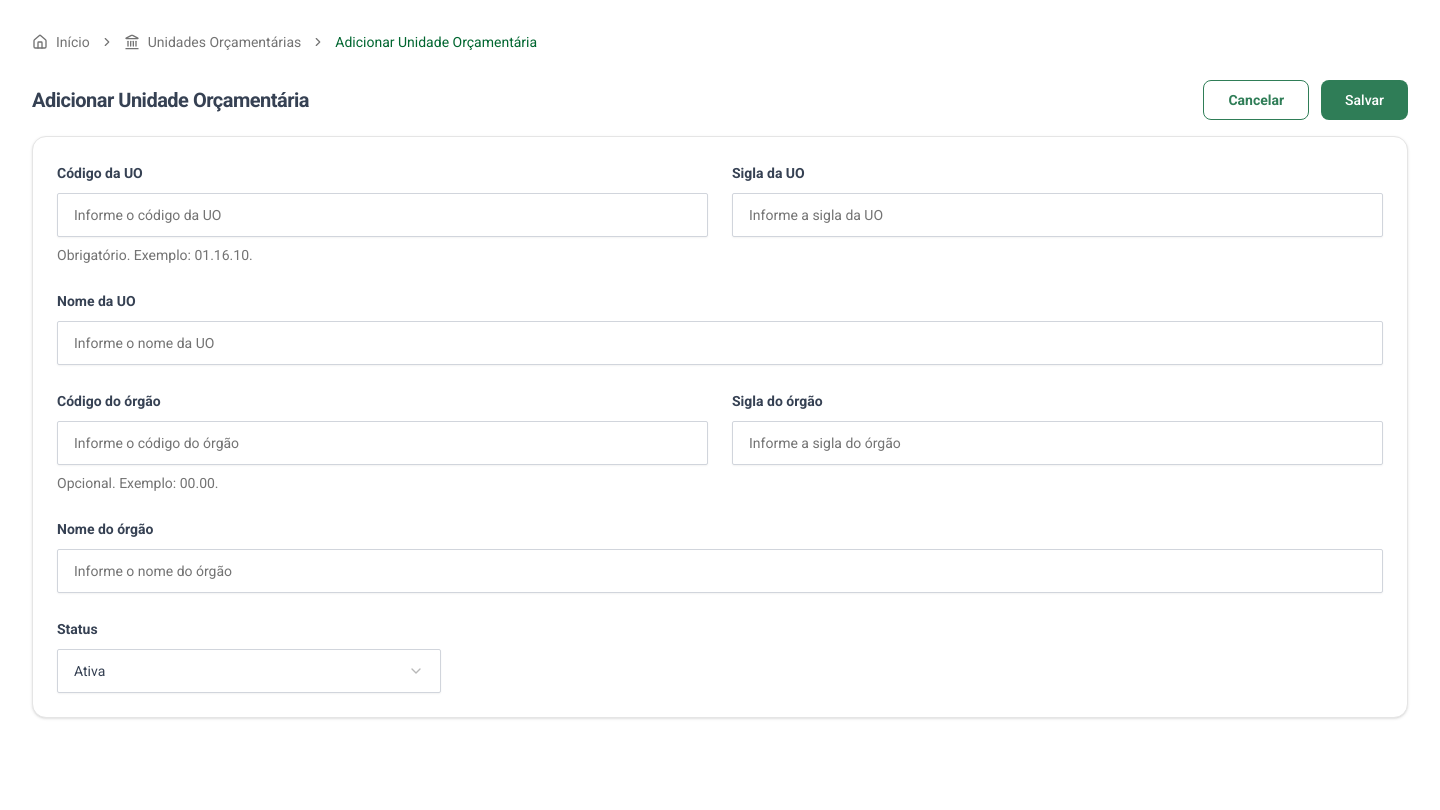
Test: UnidadesOrcamentariasCreatePage › valida o código do órgão no padrão 00.00 quando informado
The width and height of the screenshot is (1440, 810).
Type "60.60" into the field labelled "Código da UO" at (382, 215), box [57,193,708,237]
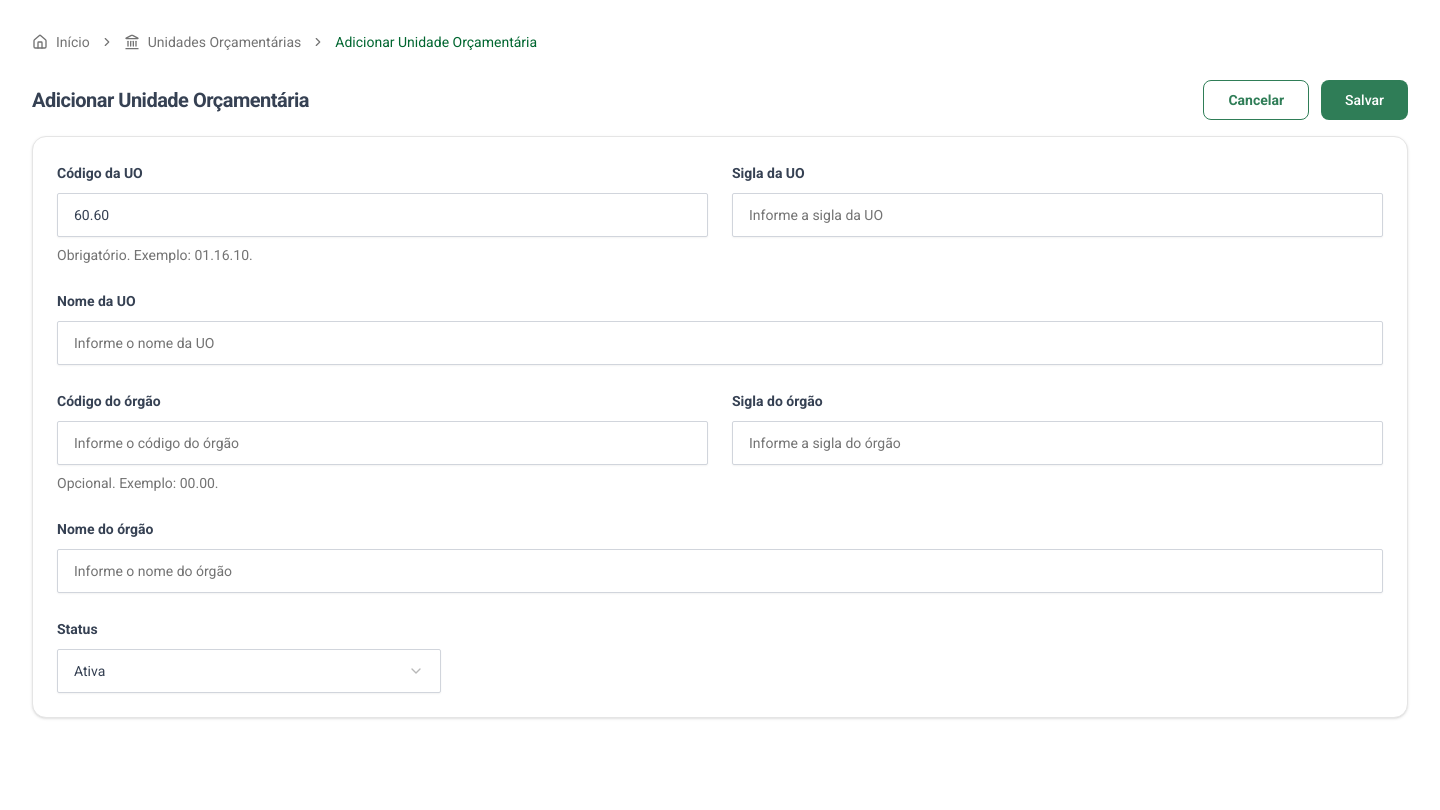
Type "UO60" into the field labelled "Sigla da UO" at (1058, 215), box [732,193,1383,237]
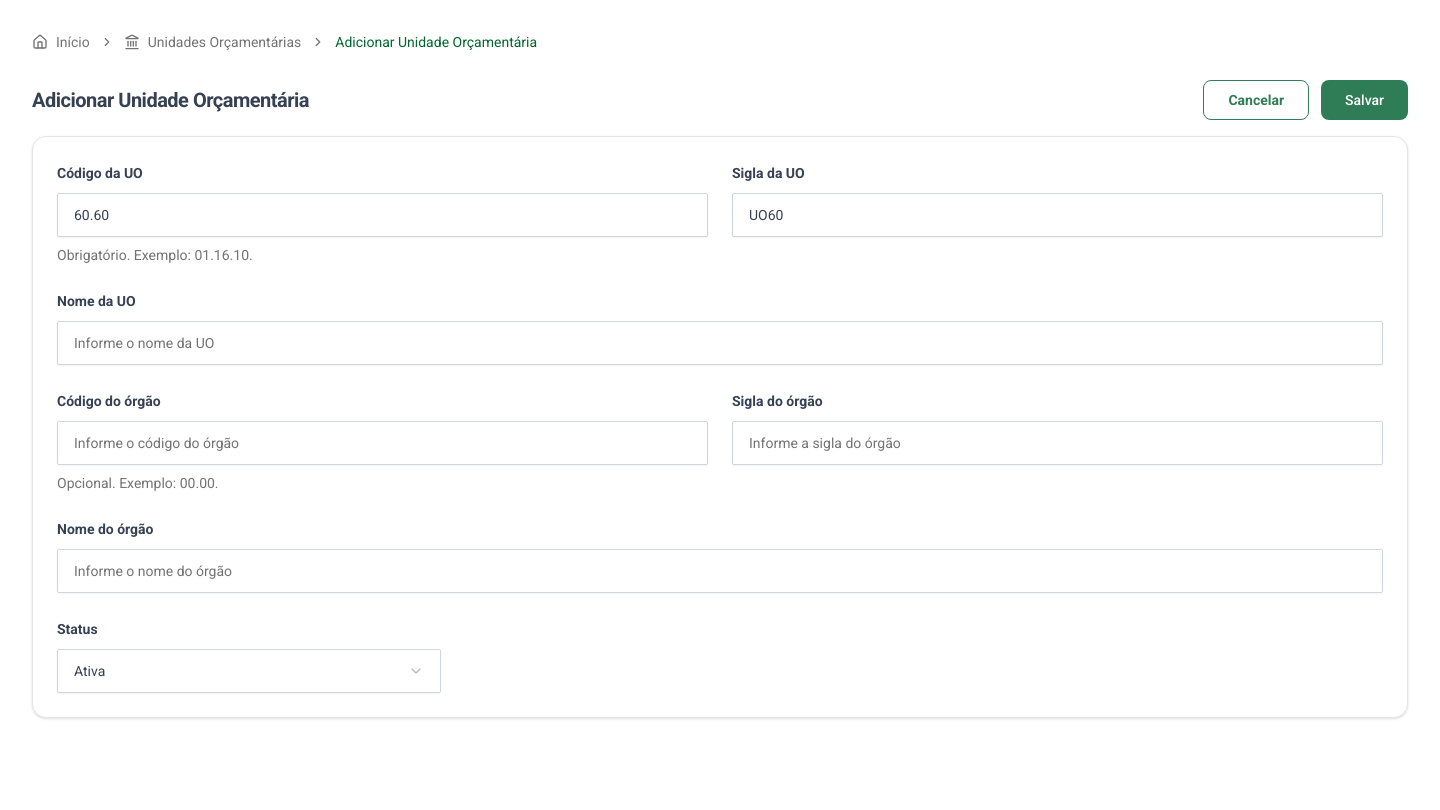
Type "UO 60" into the field labelled "Nome da UO" at (720, 343), box [57,321,1383,365]
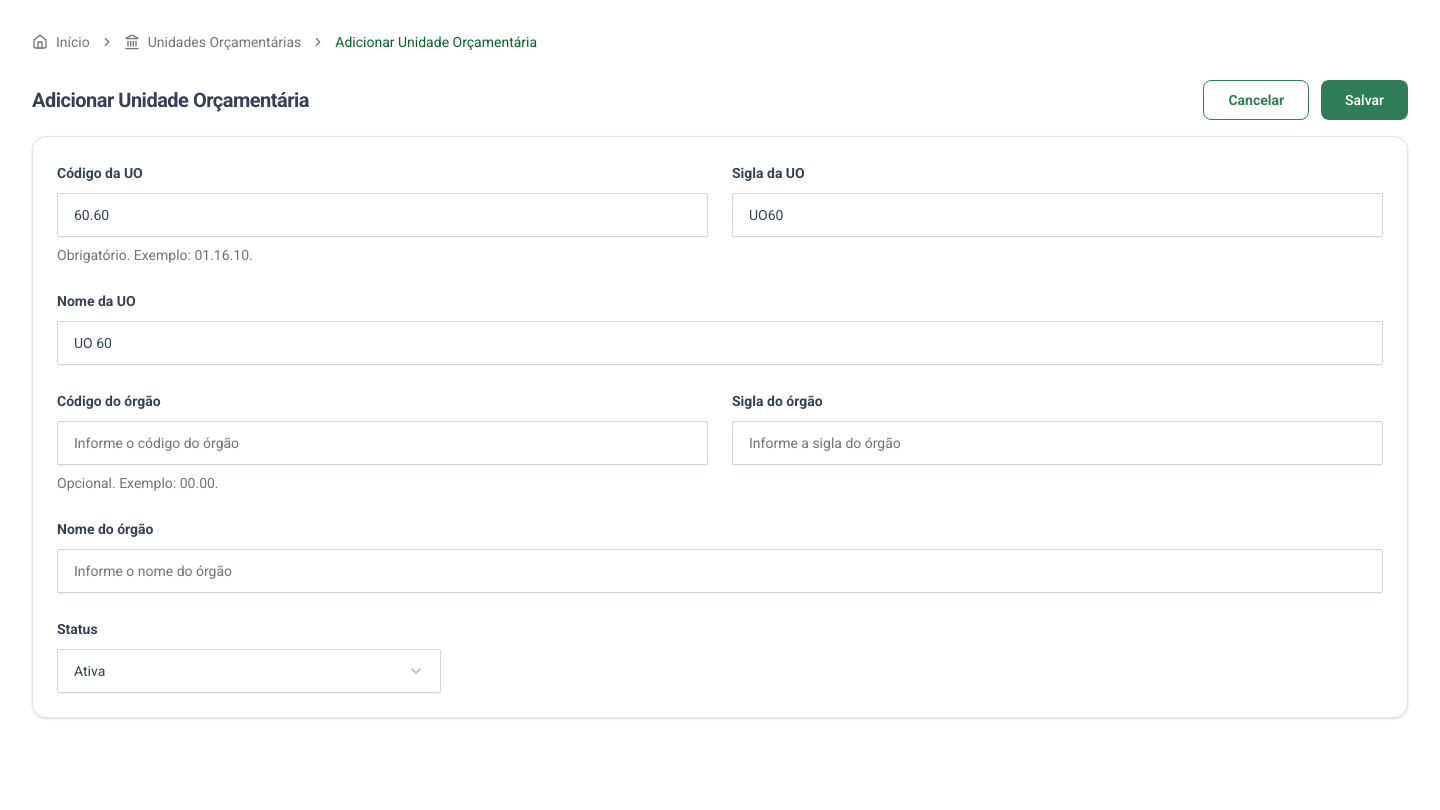
Type "606" into the field labelled "Código do órgão" at (382, 443), box [57,421,708,465]
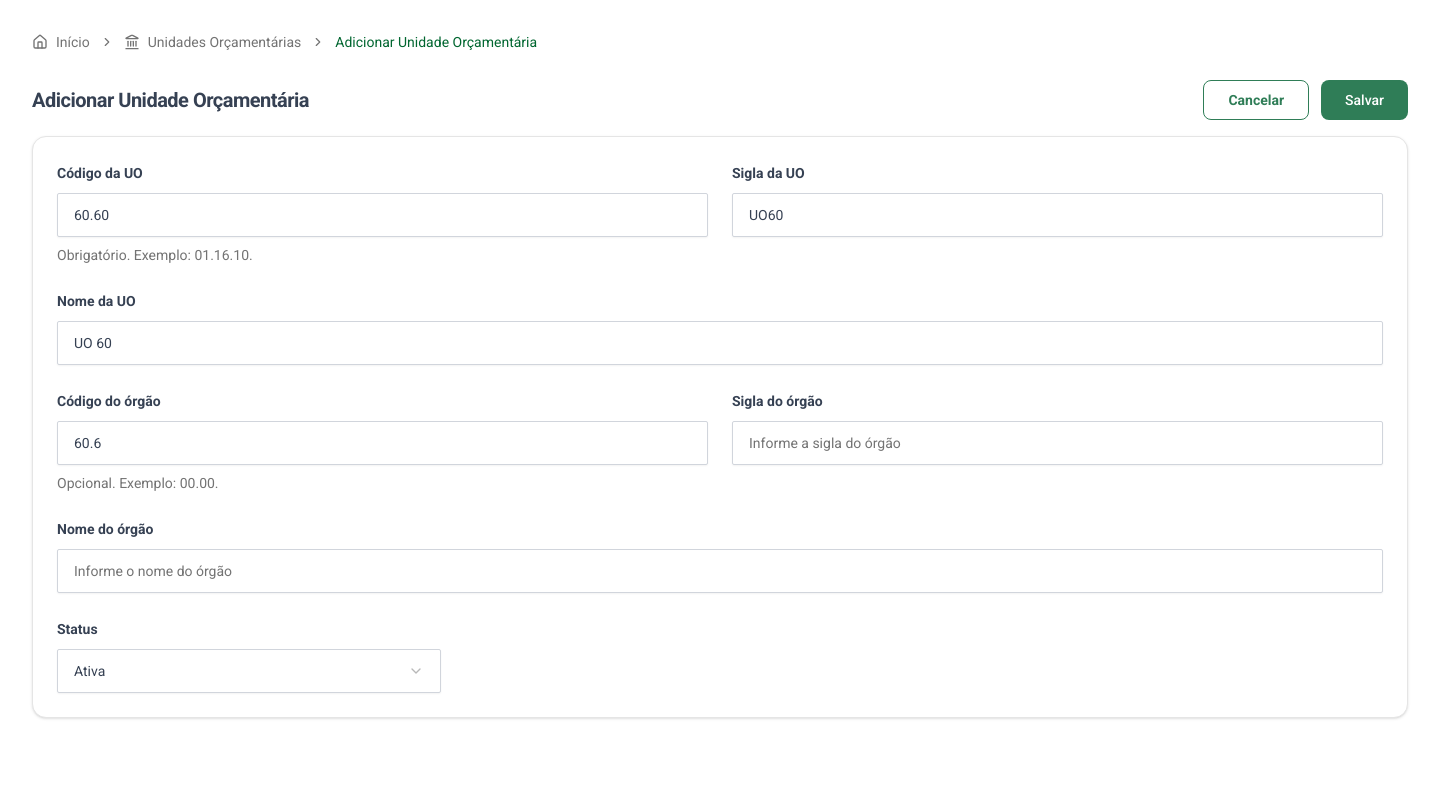
Click the button "Salvar" at (1365, 100), box [1321,80,1408,120]
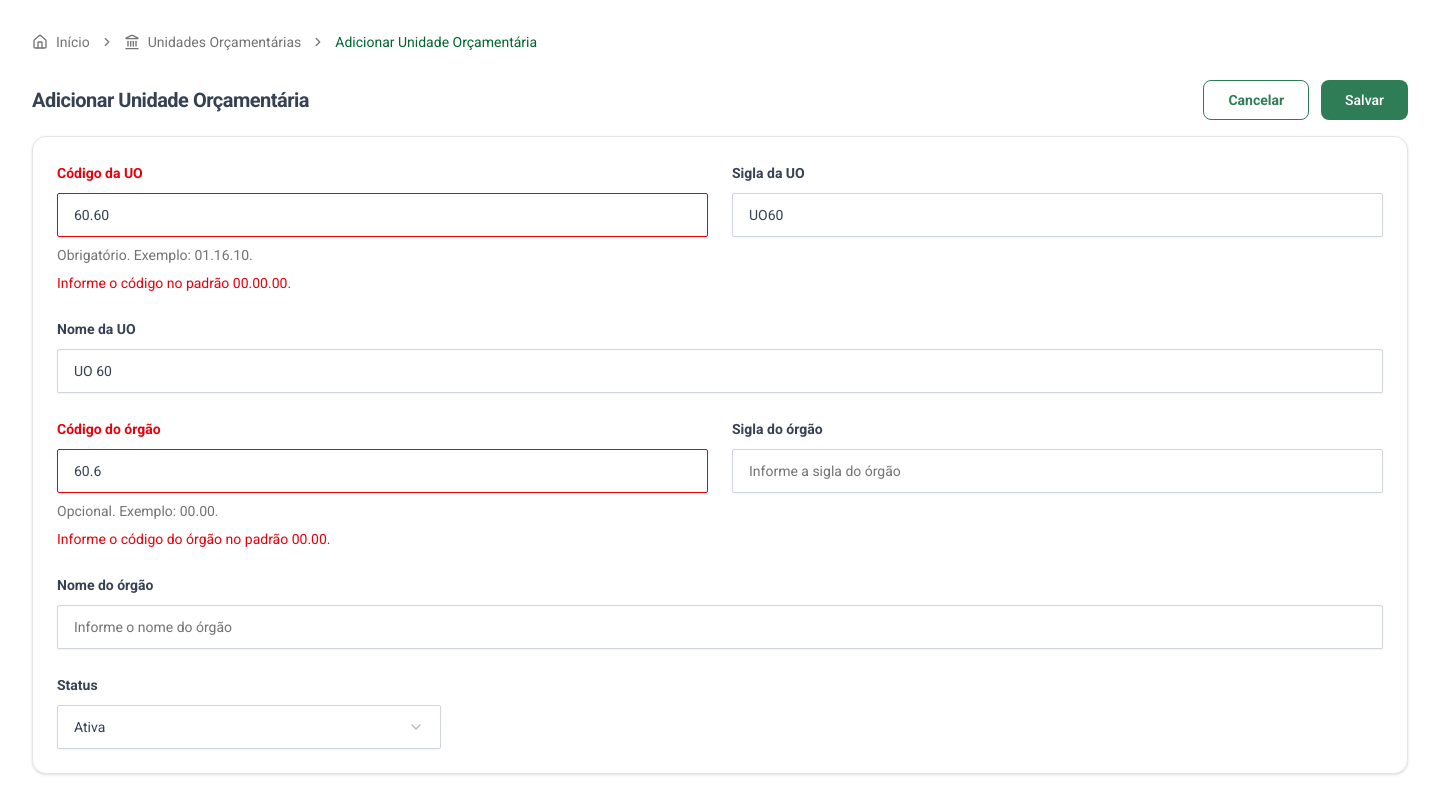
Expected: the text "Informe o código do órgão no padrão 00.00." is shown, [57,531,330,547]
